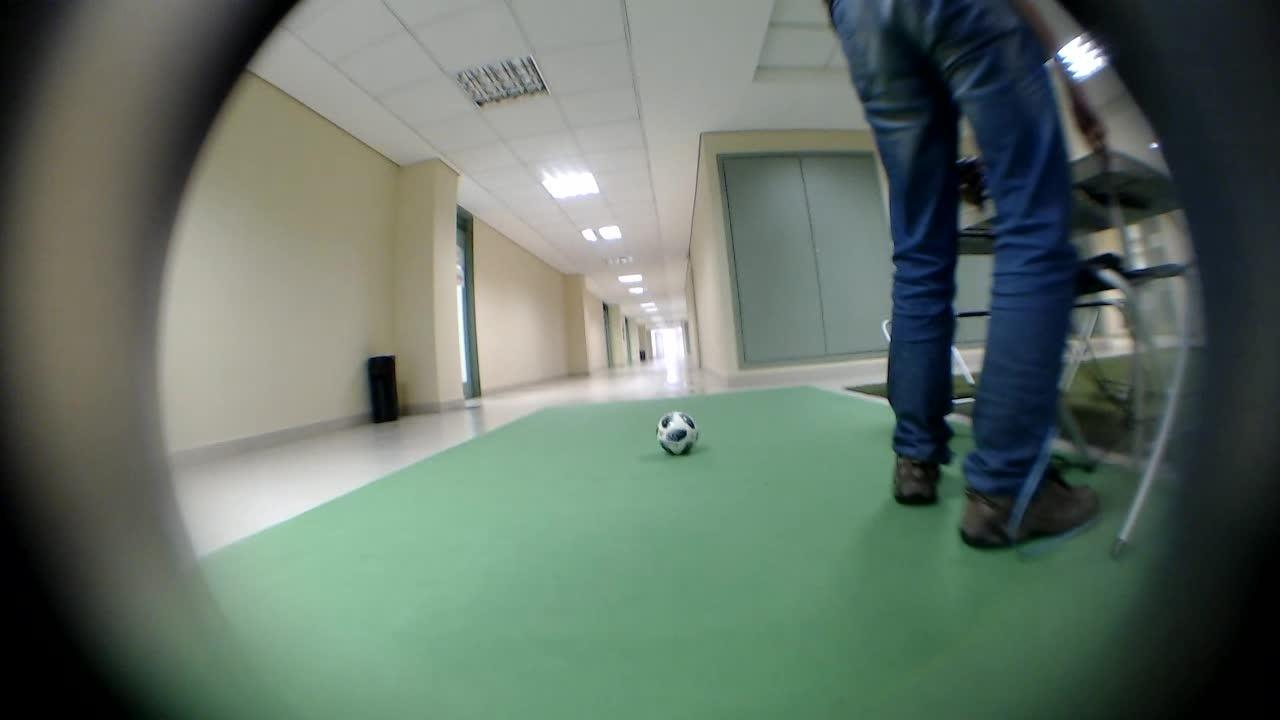ball: (648, 403, 698, 453)
